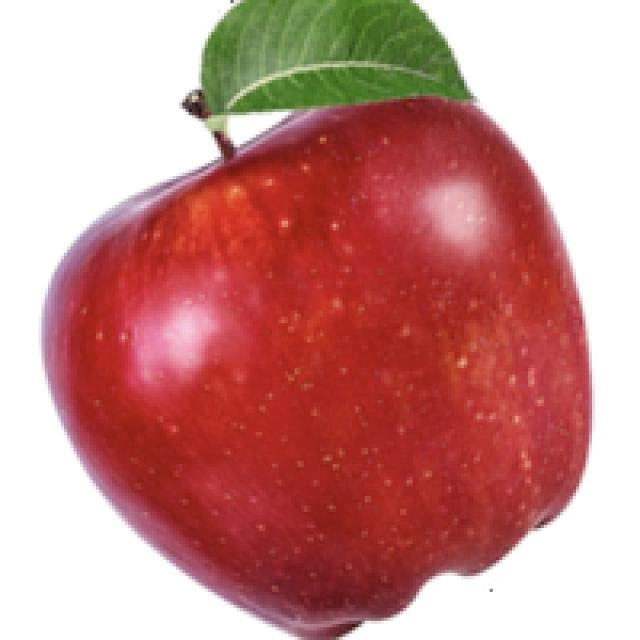apple: (35, 0, 595, 637)
